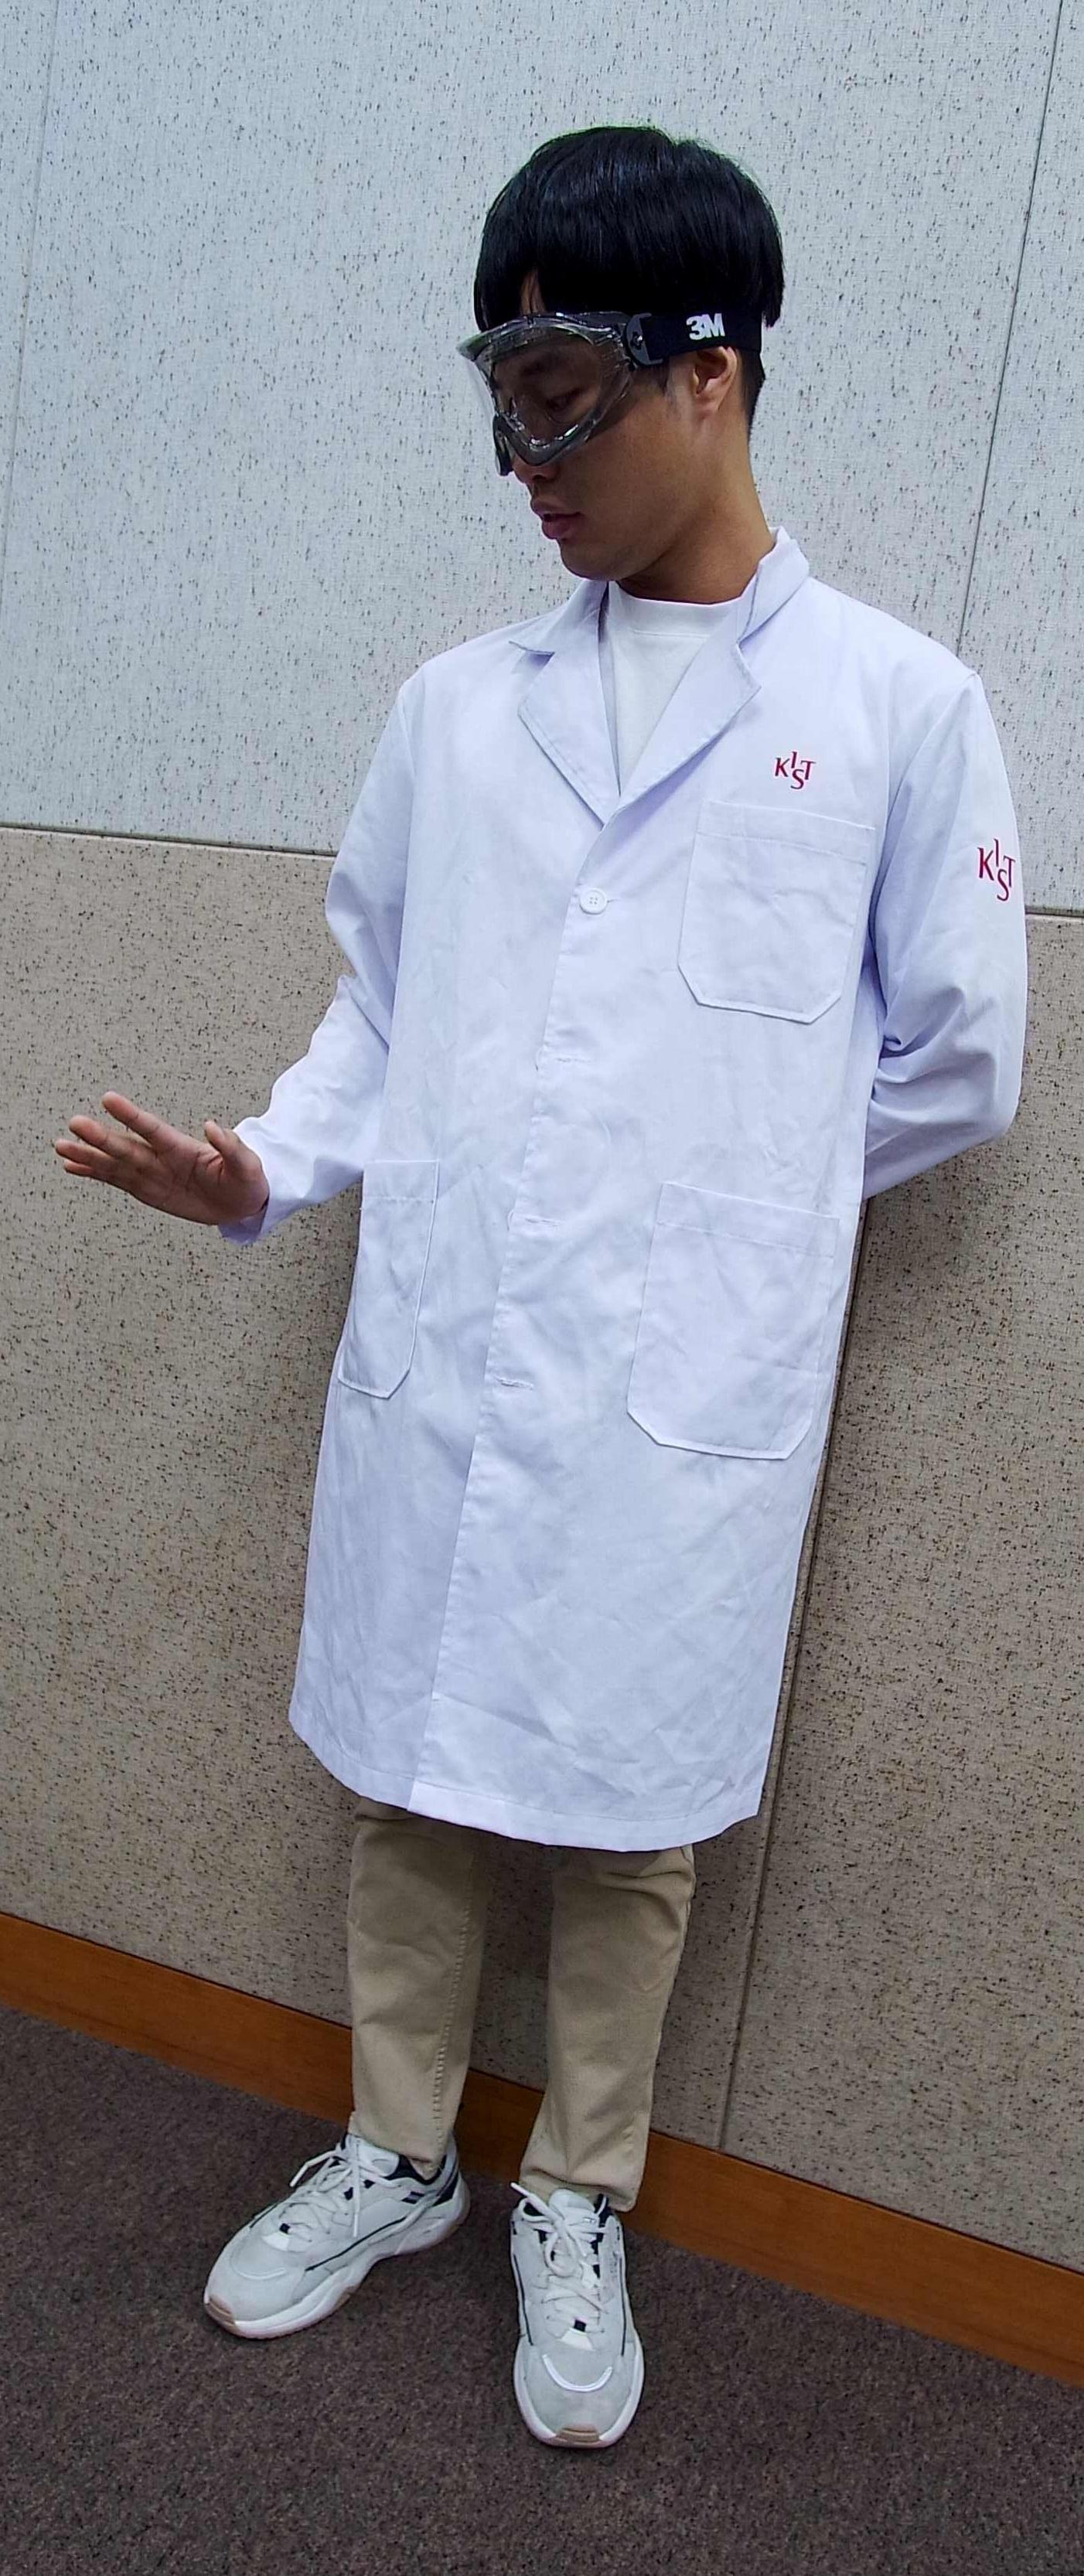lab_coat: (261, 619, 890, 1805)
